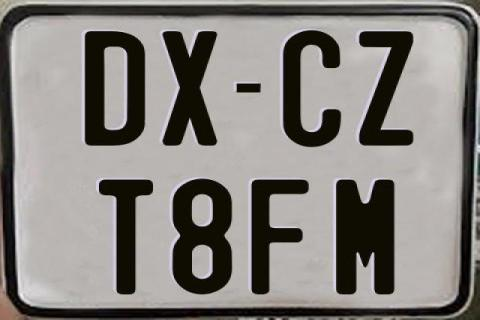0: (170, 177, 234, 297)
C: (281, 30, 341, 152)
D: (82, 30, 146, 150)
F: (248, 177, 308, 297)
M: (333, 177, 391, 293)
T: (98, 177, 154, 297)
X: (161, 29, 220, 145)
Z: (359, 31, 418, 151)
